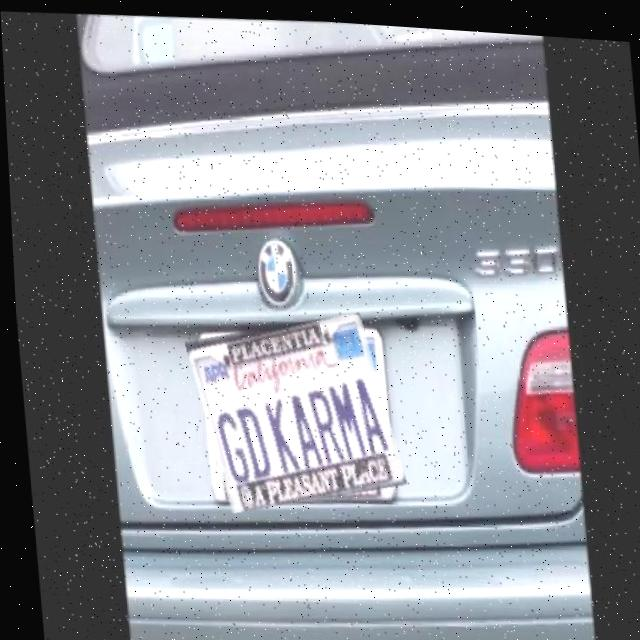LicensePlate: (186, 305, 398, 513)
